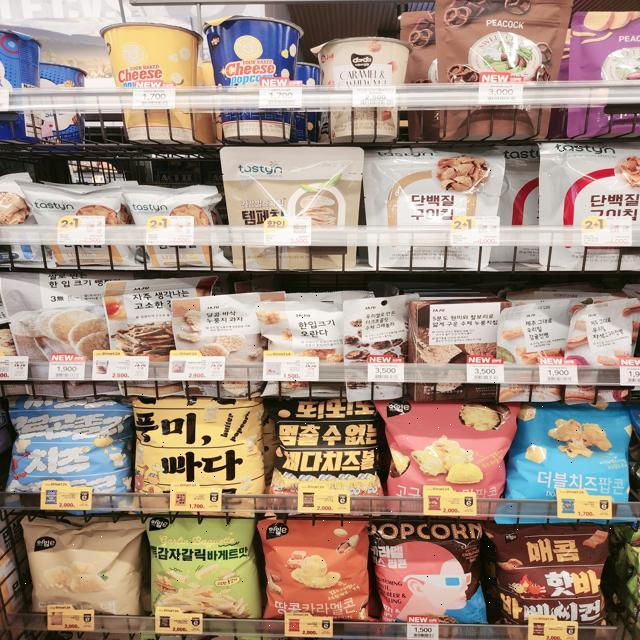product: (370, 385, 512, 526), (502, 388, 636, 525), (358, 149, 499, 273), (133, 391, 271, 514), (363, 511, 495, 639), (225, 147, 359, 273), (2, 390, 139, 511), (482, 516, 613, 638), (268, 387, 389, 517), (19, 512, 141, 634), (251, 509, 375, 629), (139, 508, 258, 631), (536, 139, 640, 271), (168, 293, 290, 389), (413, 299, 513, 395), (261, 288, 350, 393), (496, 295, 574, 402), (347, 300, 419, 399)
